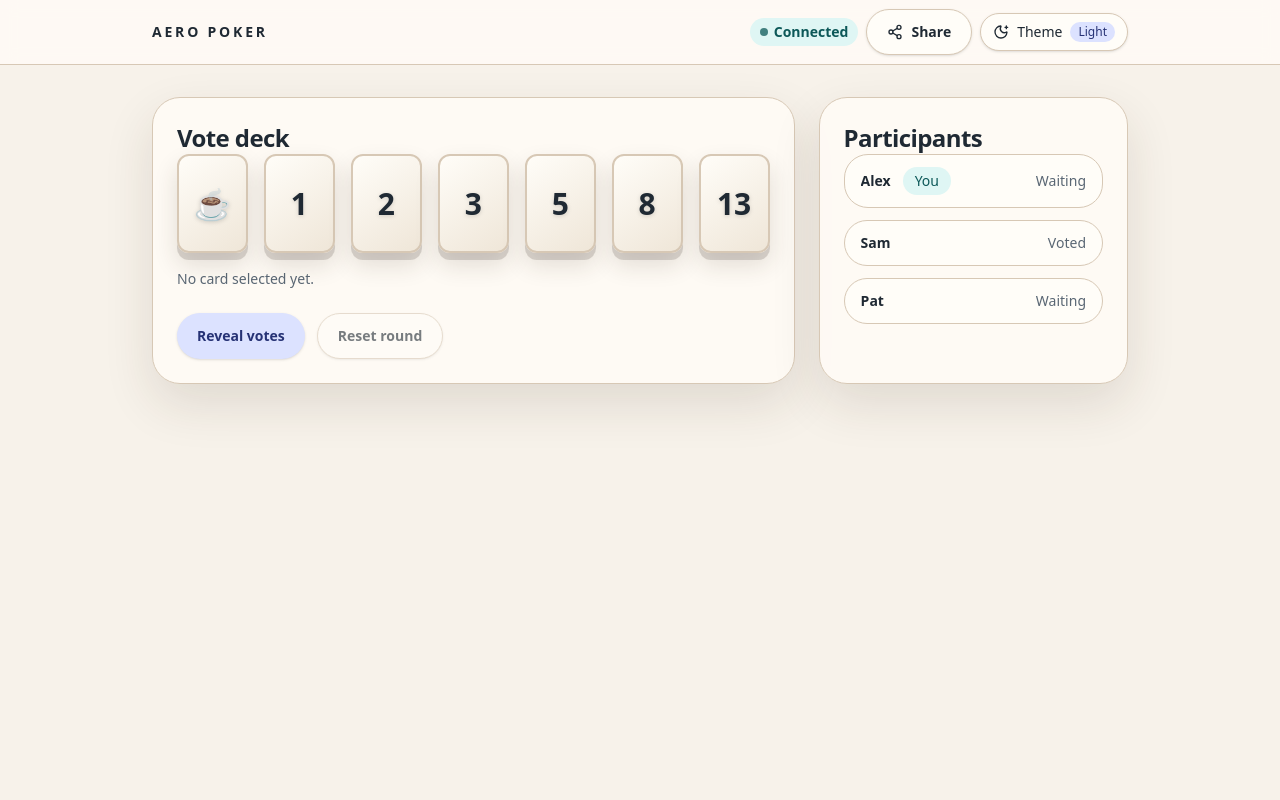
Test case: RoomPage › copies a share link with only the base path and room hash
The width and height of the screenshot is (1280, 800).
Click the button "Share" at (919, 32), box [866,9,972,55]
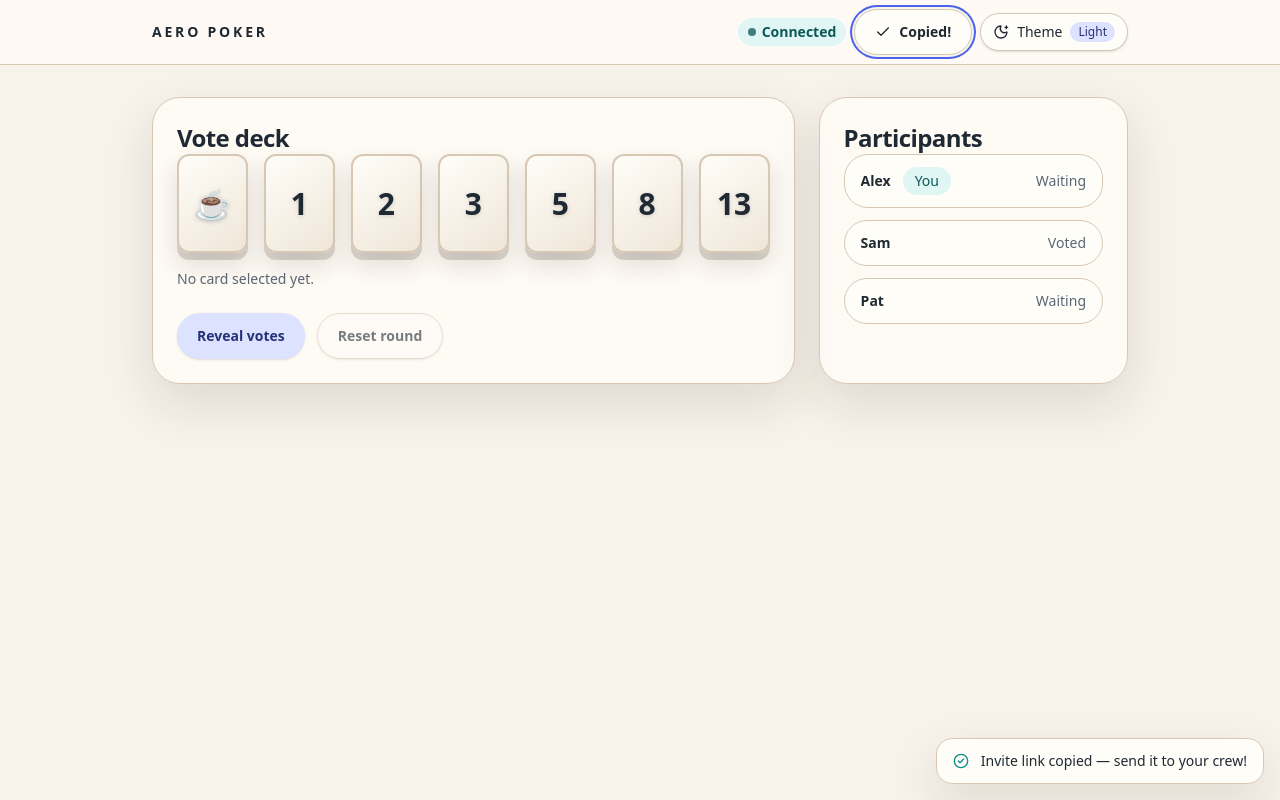
Expected: the message reads "Invite link copied — send it to your crew!", [981,751,1247,770]
